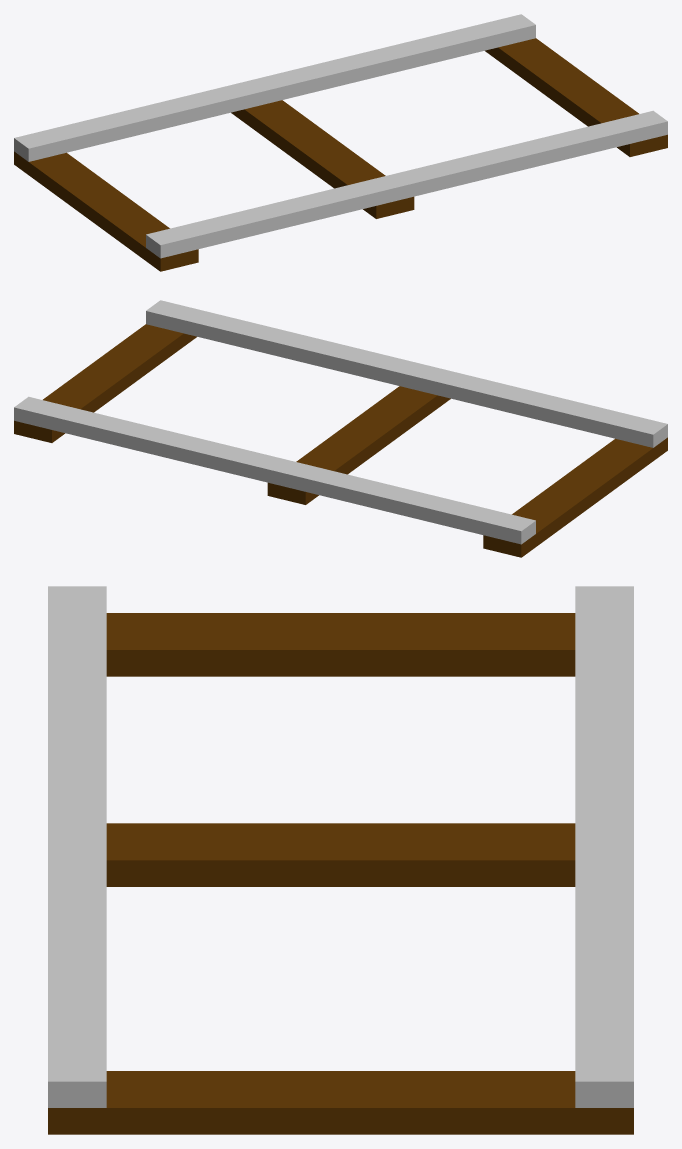
File: via.obj
3 views of the same model, one above another, from view 1: azimuth 30°, elevation 25°; view 2: azimuth 150°, elevation 25°; view 3: azimuth 270°, elevation 25° (orthographic). The views are drawn at different scales.
Size of the model in its own units: 40 by 2 by 20.
1 material, 1 textured.
